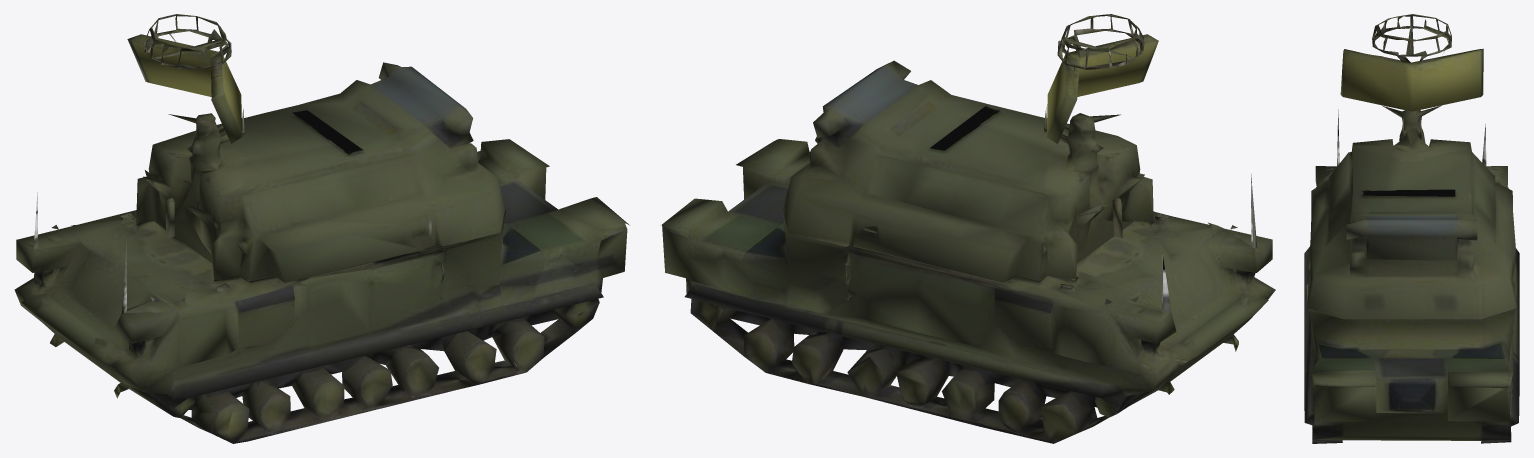
The model's file is tor_lo.glb.
The picture shows the model from 3 angles, left to right: view 1: azimuth 30°, elevation 25°; view 2: azimuth 150°, elevation 25°; view 3: azimuth 270°, elevation 25°; orthographic projection. The views are drawn at different scales.
Visible parts, largest first — view 1: g_tor_hull, g_tor_turret; view 2: g_tor_hull, g_tor_turret; view 3: g_tor_turret, g_tor_hull.
Part boxes in pixels (x1,y1,x2,y2): g_tor_hull: (14, 43, 629, 443); g_tor_turret: (121, 14, 504, 288); g_tor_hull: (660, 43, 1275, 443); g_tor_turret: (782, 14, 1168, 288); g_tor_turret: (1307, 14, 1516, 319); g_tor_hull: (1304, 16, 1519, 443).
Bounding box in the file's own units: 7.49 × 5.09 × 3.26.
Materials: 2 (2 with a texture image).
